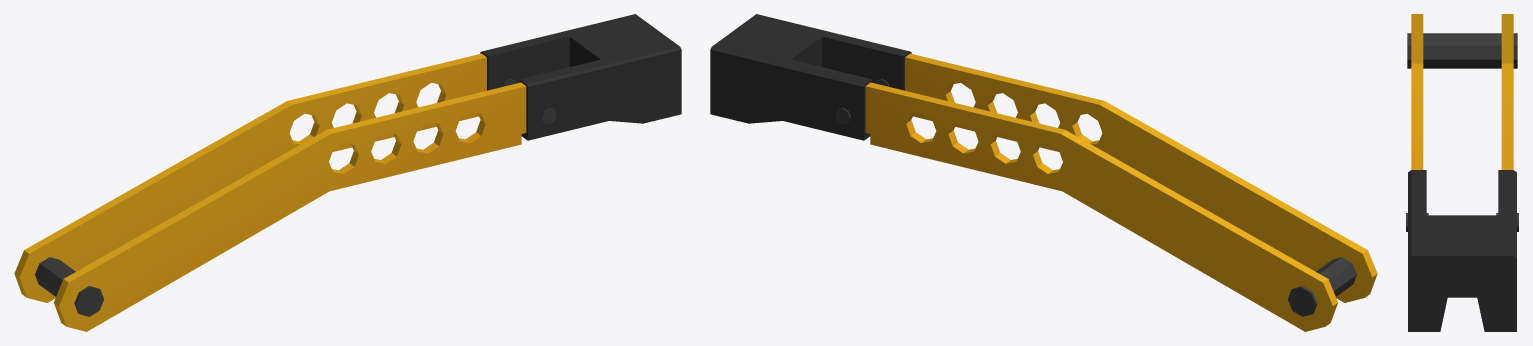
The model's file is Shotgun5_06_2.fbx.
The picture shows the model from 3 angles, left to right: view 1: azimuth 30°, elevation 25°; view 2: azimuth 150°, elevation 25°; view 3: azimuth 270°, elevation 25°; orthographic projection. The views are drawn at different scales.
Parts seen in each view (by area): view 1: Shotgun5_06_2; view 2: Shotgun5_06_2; view 3: Shotgun5_06_2.
Boxes of the visible parts, x1,y1,x2,y2 form: Shotgun5_06_2: (14, 14, 681, 331); Shotgun5_06_2: (710, 14, 1377, 331); Shotgun5_06_2: (1406, 14, 1518, 331).
Size of the model in its own units: 0.4016 by 0.0868 by 0.0553.
